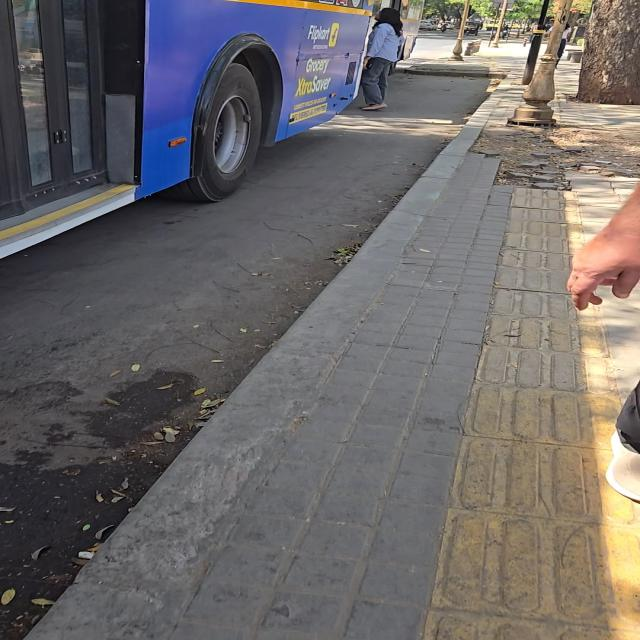bike: (568, 185, 639, 310), (508, 0, 572, 125), (361, 8, 403, 110), (521, 0, 549, 84), (450, 0, 470, 61), (490, 0, 508, 47), (556, 26, 571, 66), (489, 7, 499, 41)
